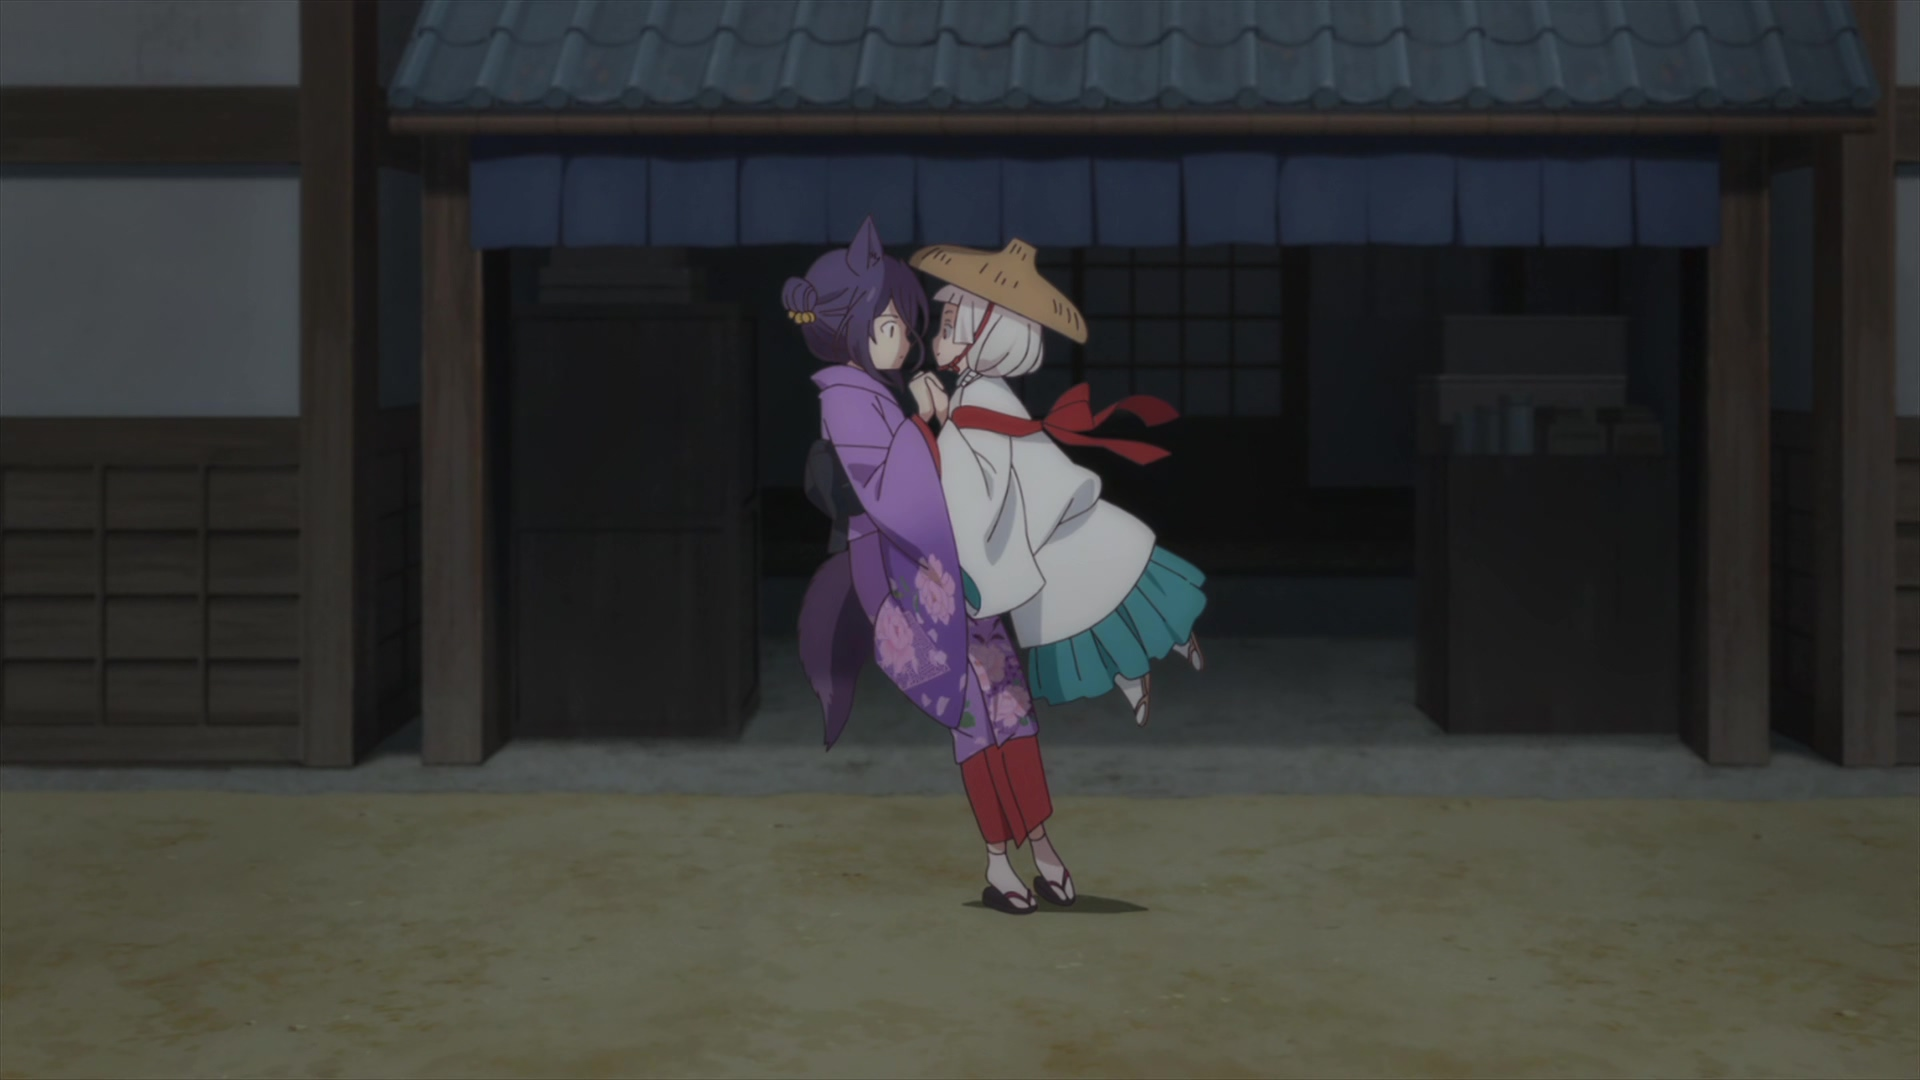其他: (911, 237, 1208, 727)
皋: (781, 218, 1077, 919)
